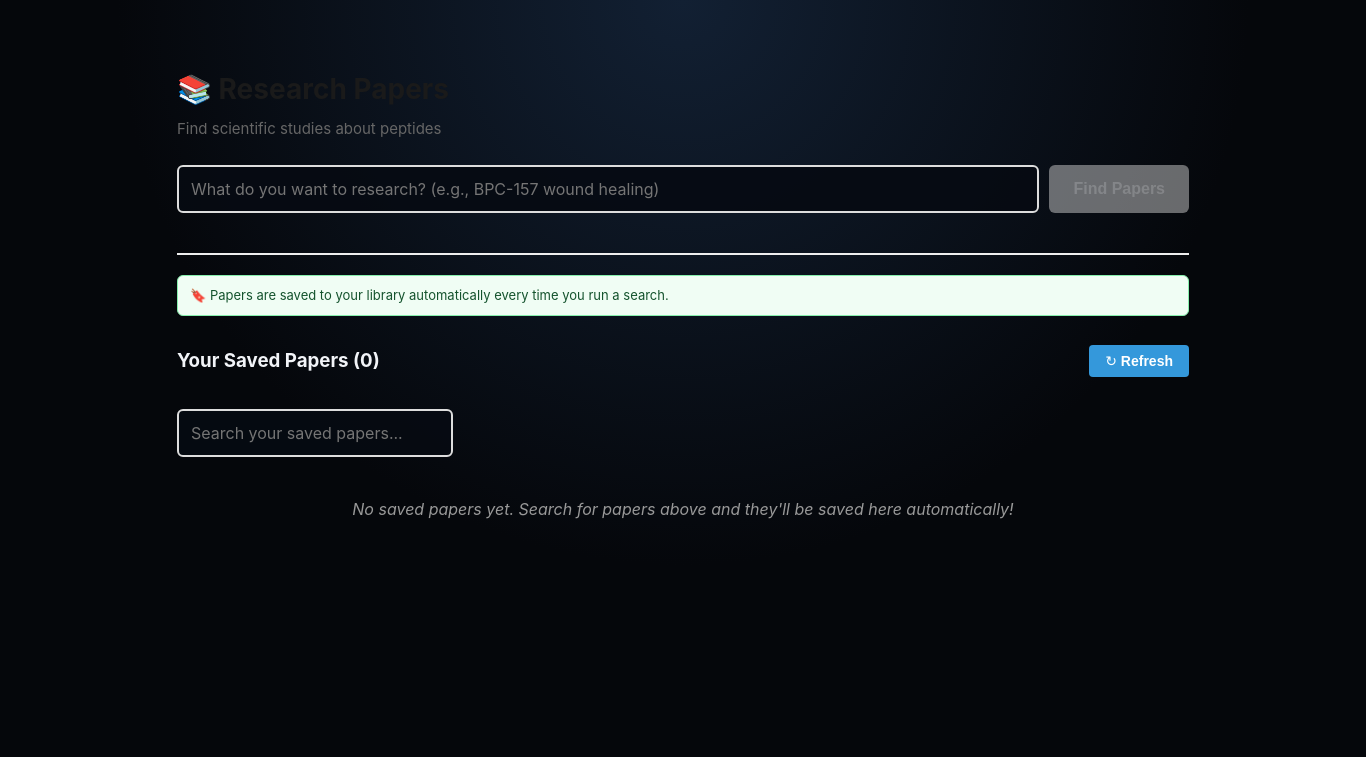
Test: LiteratureSearch Component › displays paper details
This screenshot has width=1366, height=757.
Type "BPC-157" into the field with id "literature-search-input" at (608, 188), box [177,164,1039,212]
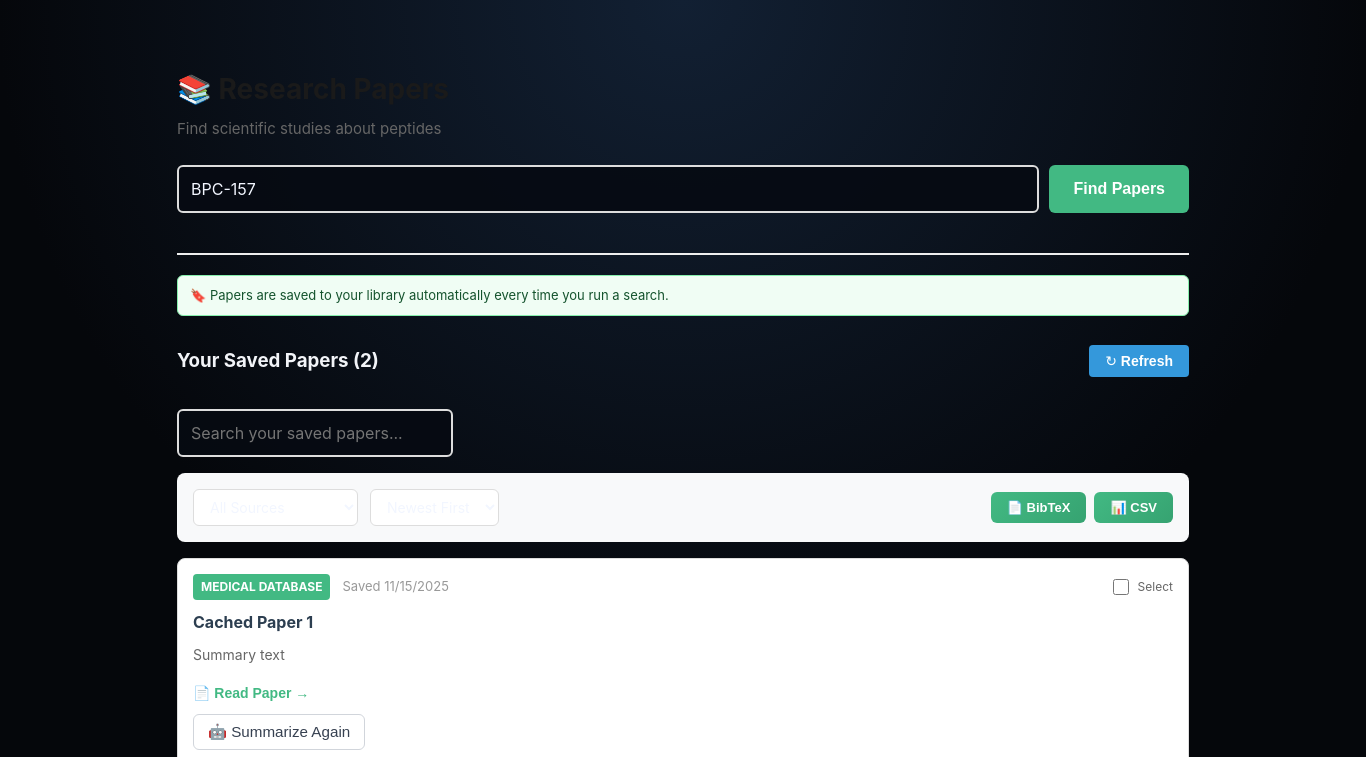
Click the button with class "search-btn" at (1119, 188), box [1049,164,1189,212]
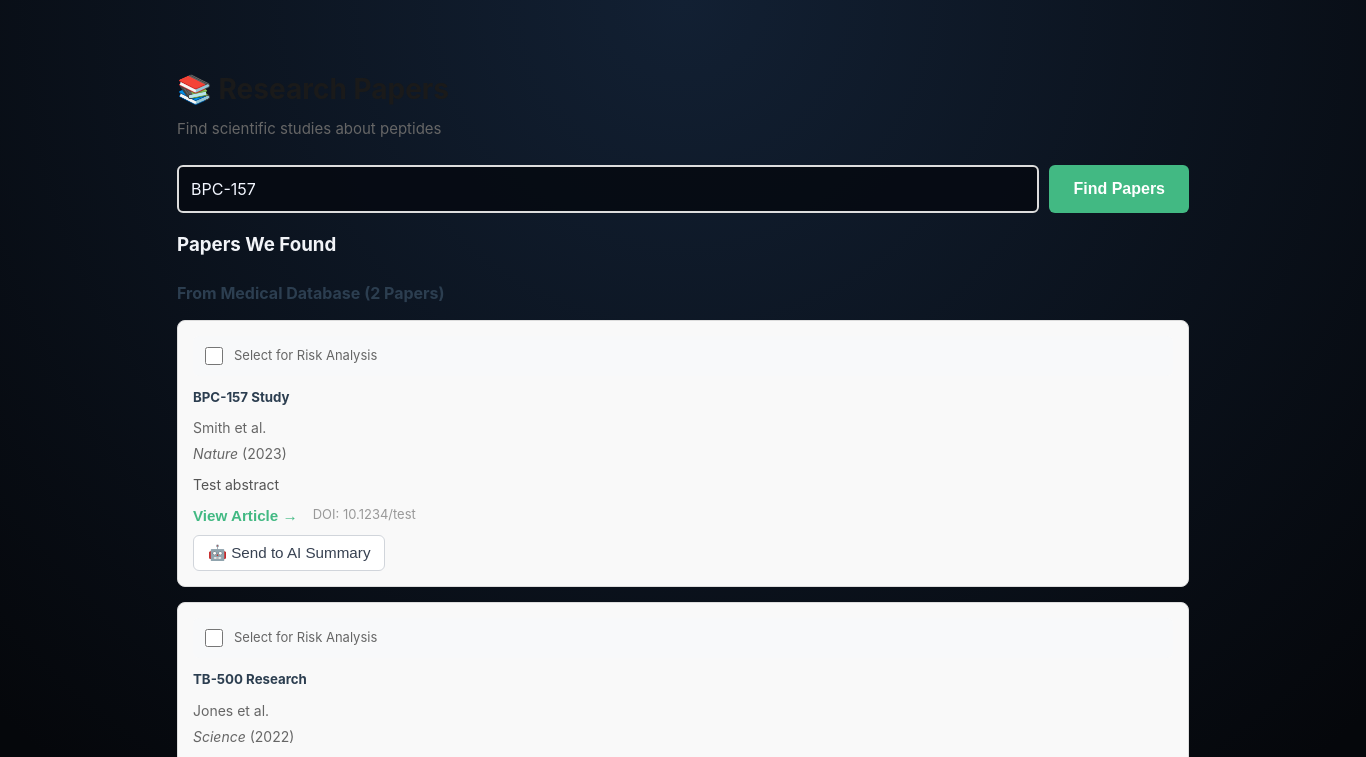
Now the text "BPC-157 Study" is shown, box [193,389,290,405]
Now the text "Smith et al." is shown, box [193,420,266,436]
Now the text "Nature" is shown, box [193,446,238,462]
